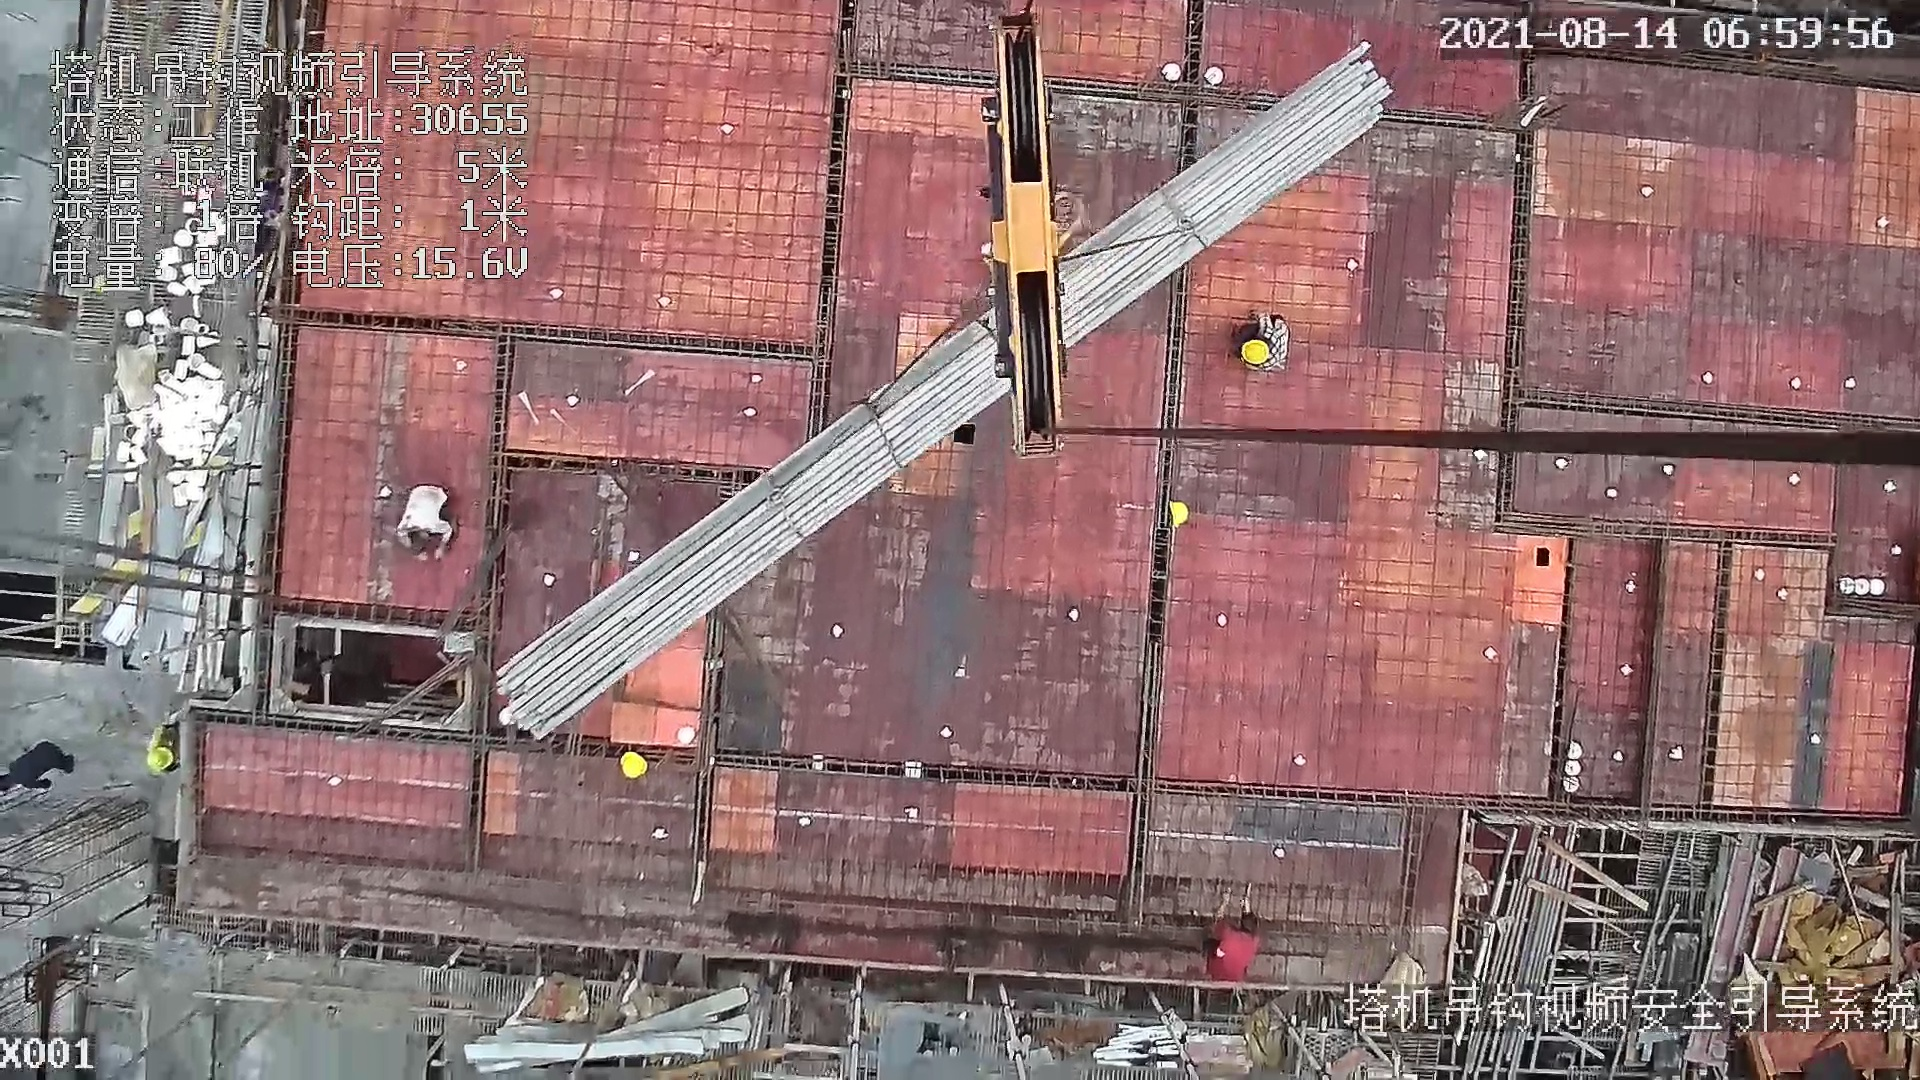helmet: (620, 751, 647, 778), (147, 747, 174, 770), (1241, 339, 1269, 363), (1168, 499, 1189, 526)
hook: (985, 8, 1081, 468)
person: (386, 486, 451, 571), (1207, 889, 1261, 983), (1, 740, 82, 794), (1237, 306, 1294, 378), (142, 724, 181, 771)
rebar: (492, 49, 1394, 741)
